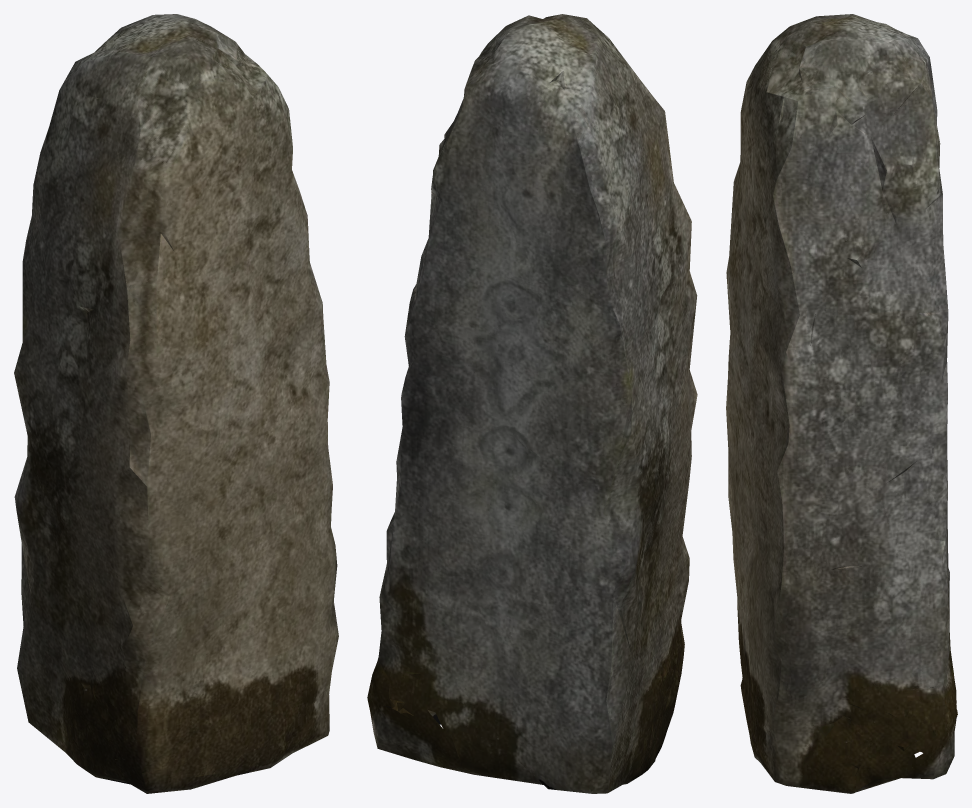
The model's file is stone-a.glb.
3 views of the same model, side by side, from view 1: azimuth 30°, elevation 25°; view 2: azimuth 150°, elevation 25°; view 3: azimuth 270°, elevation 25° (orthographic). The views are drawn at different scales.
Parts seen in each view (by area): view 1: stone-a; view 2: stone-a; view 3: stone-a.
Part boxes in pixels (x1,y1,x2,y2): stone-a: (14, 14, 338, 793); stone-a: (367, 14, 697, 793); stone-a: (726, 14, 957, 793).
Bounding box in the file's own units: 1.13 × 3 × 0.881.
1 material, 1 textured.
